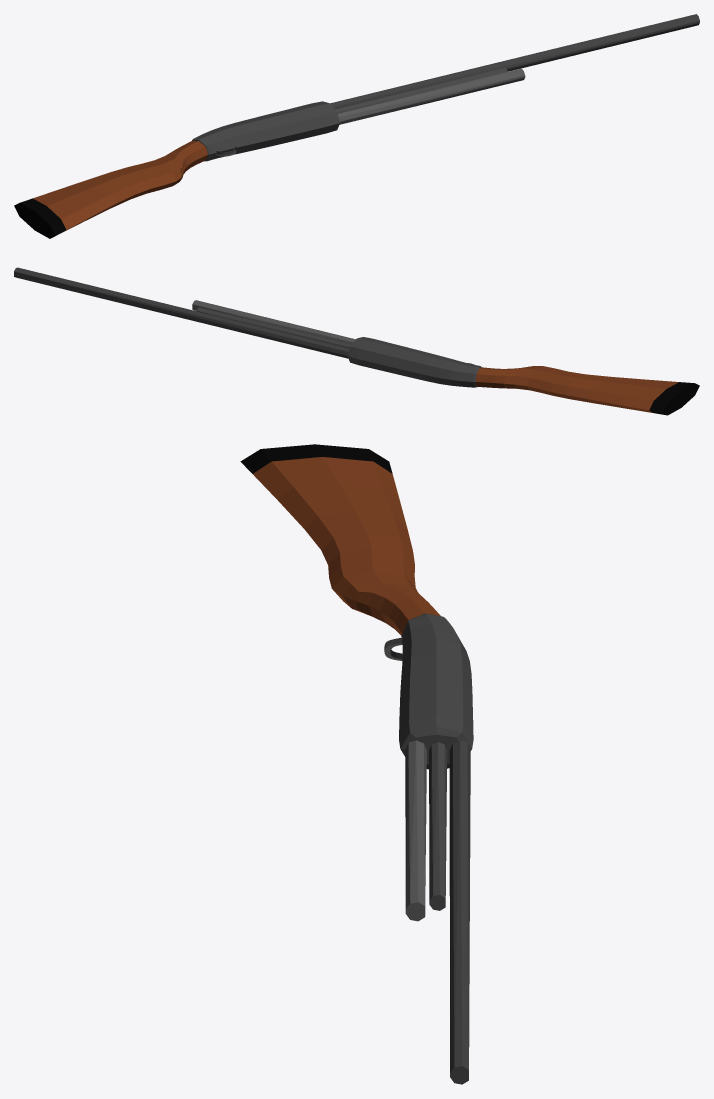
File: ShotgunModel.fbx
The picture shows the model from 3 angles, top to bottom: view 1: azimuth 30°, elevation 25°; view 2: azimuth 150°, elevation 25°; view 3: azimuth 270°, elevation 25°; orthographic projection. The views are drawn at different scales.
Visible parts, largest first — view 1: Cylinder; view 2: Cylinder; view 3: Cylinder.
Part boxes in pixels (box(x1,y1,x2,y2)): Cylinder: box(14, 14, 699, 238); Cylinder: box(14, 267, 699, 415); Cylinder: box(240, 444, 473, 1084).
Bounding box in the file's own units: 563 × 19.84 × 90.41.
